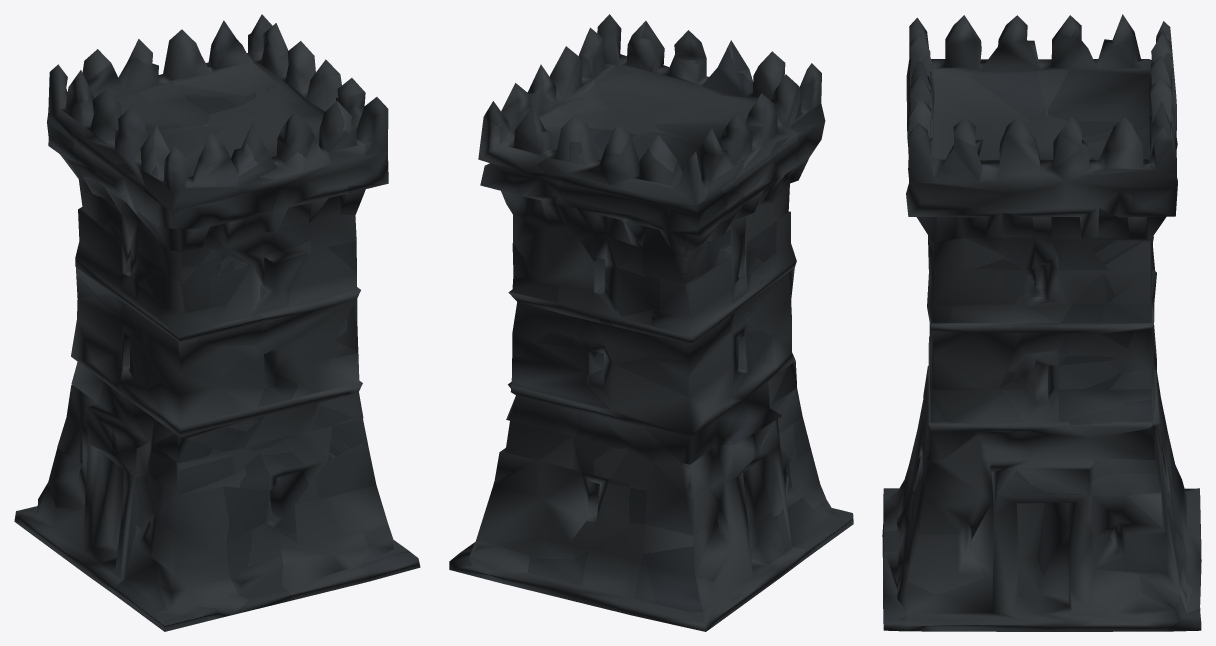
The model's file is castle_tower_medium_iron_lo.glb.
3 views of the same model, side by side, from view 1: azimuth 30°, elevation 25°; view 2: azimuth 150°, elevation 25°; view 3: azimuth 270°, elevation 25° (orthographic). The views are drawn at different scales.
Visible parts, largest first — view 1: tripo_node_2db55c14-7a33-46d6-b346-1ddd836d687d; view 2: tripo_node_2db55c14-7a33-46d6-b346-1ddd836d687d; view 3: tripo_node_2db55c14-7a33-46d6-b346-1ddd836d687d.
Part boxes in pixels (left/top/right/bottom): tripo_node_2db55c14-7a33-46d6-b346-1ddd836d687d: left=14, top=14, right=420, bottom=631; tripo_node_2db55c14-7a33-46d6-b346-1ddd836d687d: left=449, top=14, right=853, bottom=631; tripo_node_2db55c14-7a33-46d6-b346-1ddd836d687d: left=882, top=14, right=1201, bottom=631.
Size of the model in its own units: 0.5582 by 0.9807 by 0.5658.
1 material, 1 textured.
